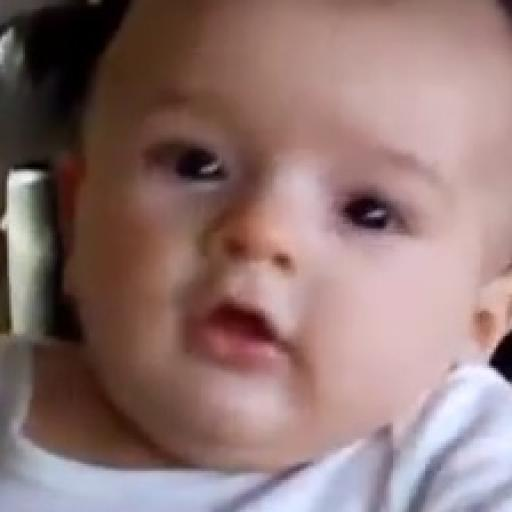Autism: (86, 19, 512, 512)
